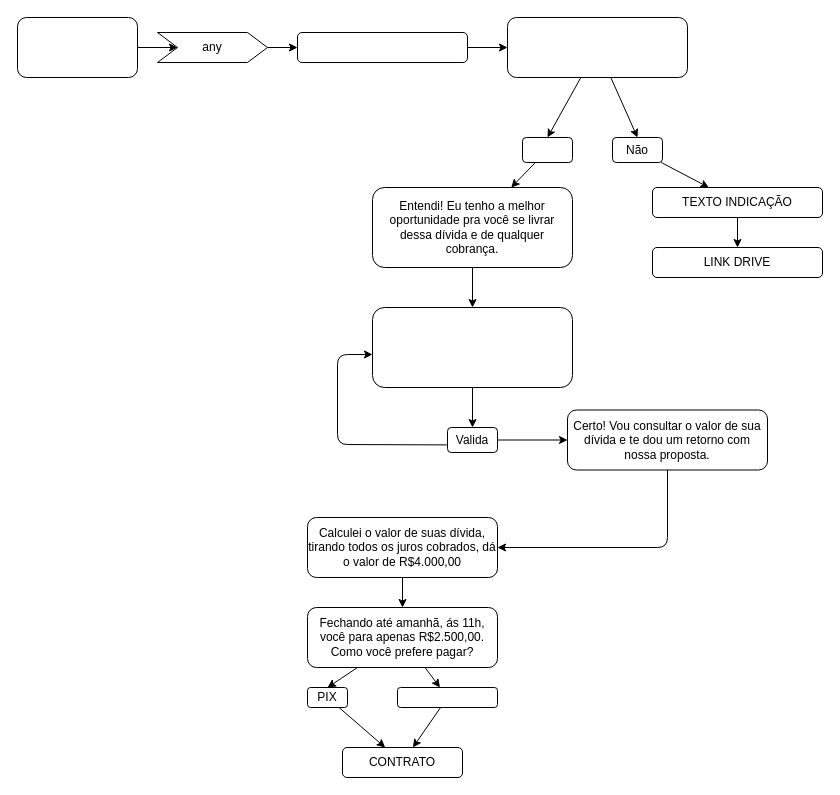
Some shapes in this 840 by 795 pixel diagram are drawn without their labels. Each missing label, with the box of its shape:
Cartão de crédito: (396, 686, 498, 708)
Ola! Vc pode falar agora?: (16, 16, 138, 78)
Pode me passar o seu CPF? Vou consultar o valor de sua divida.: (372, 306, 572, 388)
Sim: (522, 136, 572, 162)
TEXTO APRESENTAÇÃO: (296, 32, 468, 62)
Você tem alguma restrição (dívida) em seu CPF?: (506, 16, 688, 78)
